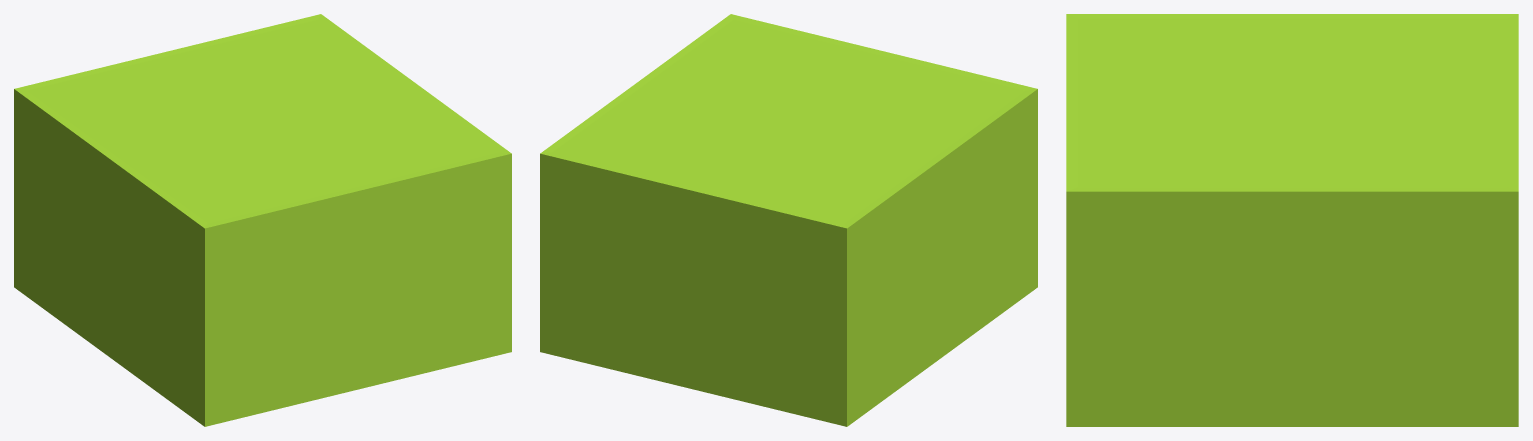
Rendered from Defaultroom (1).fbx.
The picture shows the model from 3 angles, left to right: view 1: azimuth 30°, elevation 25°; view 2: azimuth 150°, elevation 25°; view 3: azimuth 270°, elevation 25°; orthographic projection. The views are drawn at different scales.
Visible parts, largest first — view 1: Room; view 2: Room; view 3: Room.
Part boxes in pixels (<box>): Room: <box>14,14,511,426</box>; Room: <box>540,14,1037,426</box>; Room: <box>1066,14,1518,426</box>.
Bounding box in the file's own units: 499 × 308 × 537.
